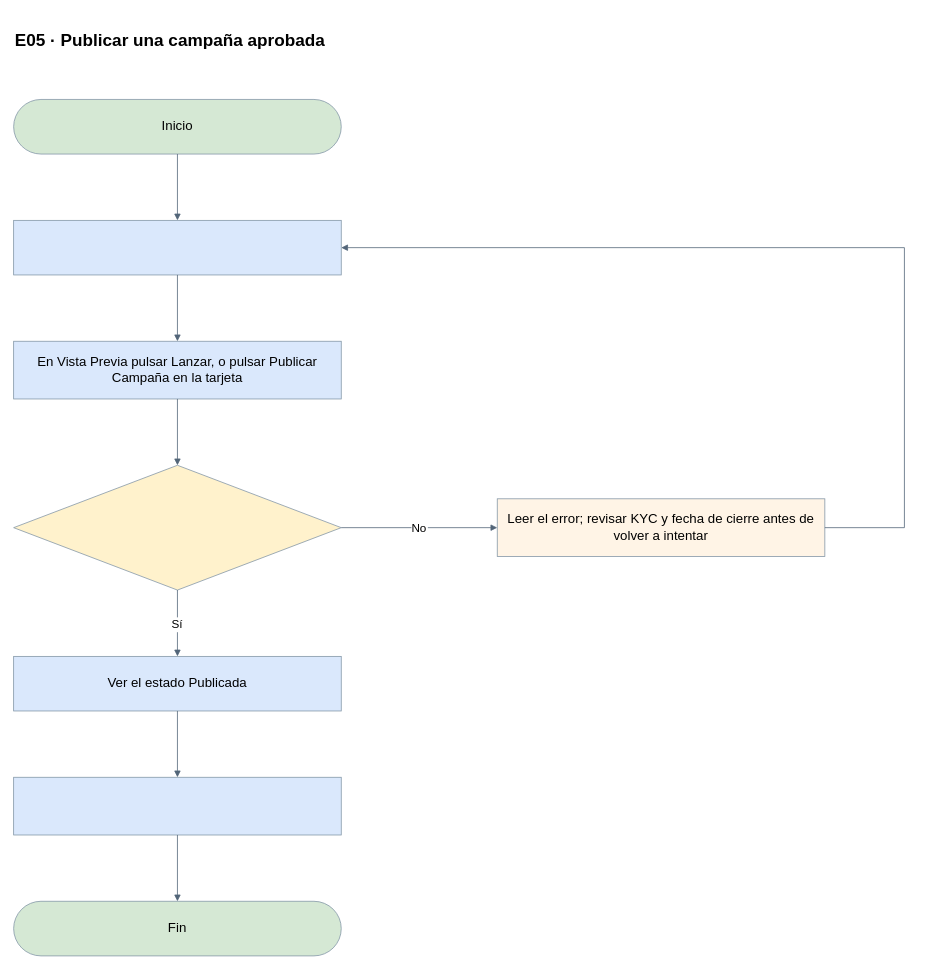
Image size: 948x970. Some labels were removed from this diagram. Here are the shapes that lost their labels. From the top down, the box of each, then its label:
(13, 220, 341, 275): Localizar la campaña en estado Aprobada
(13, 464, 341, 590): ¿Se permite la publicación?
(13, 776, 341, 835): Consultar la campaña en Explorar y compartirla
